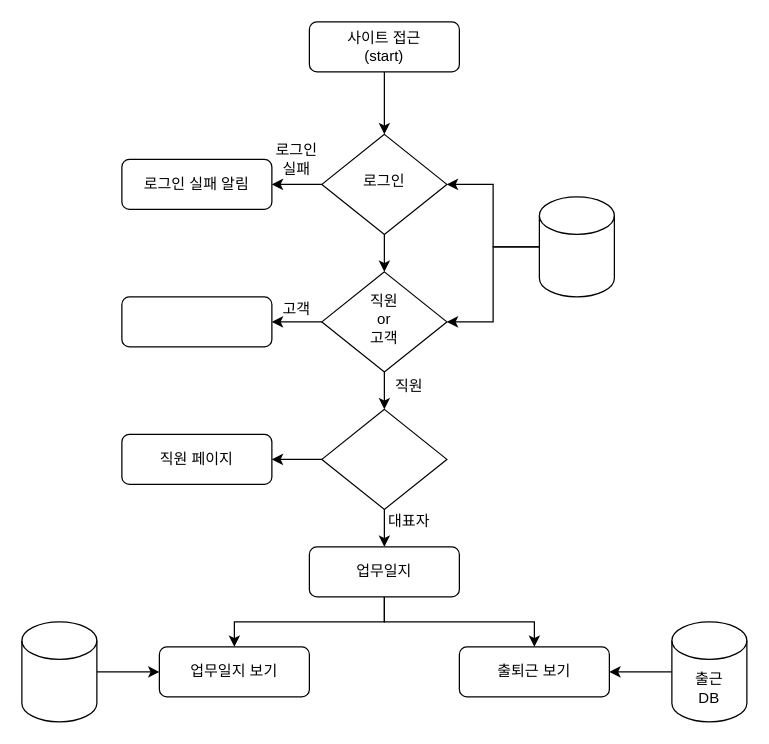
Image size: 769x744. Some labels were removed from this diagram. The centre of each missing label's shape, as x and y in pixels:
고객관리 페이지: (x=196, y=321)
대표자 인증: (x=384, y=458)
업무일지 DB: (x=59, y=671)
회원DB: (x=576, y=246)
